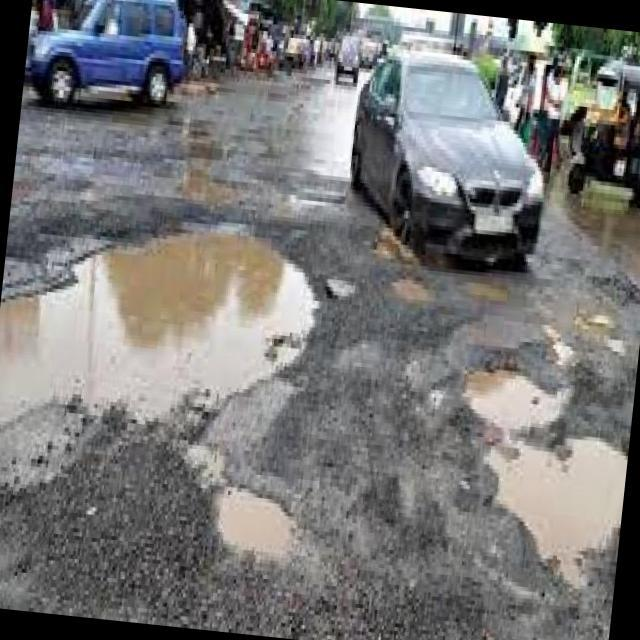Pothole: (0, 233, 317, 426), (463, 370, 625, 585)
